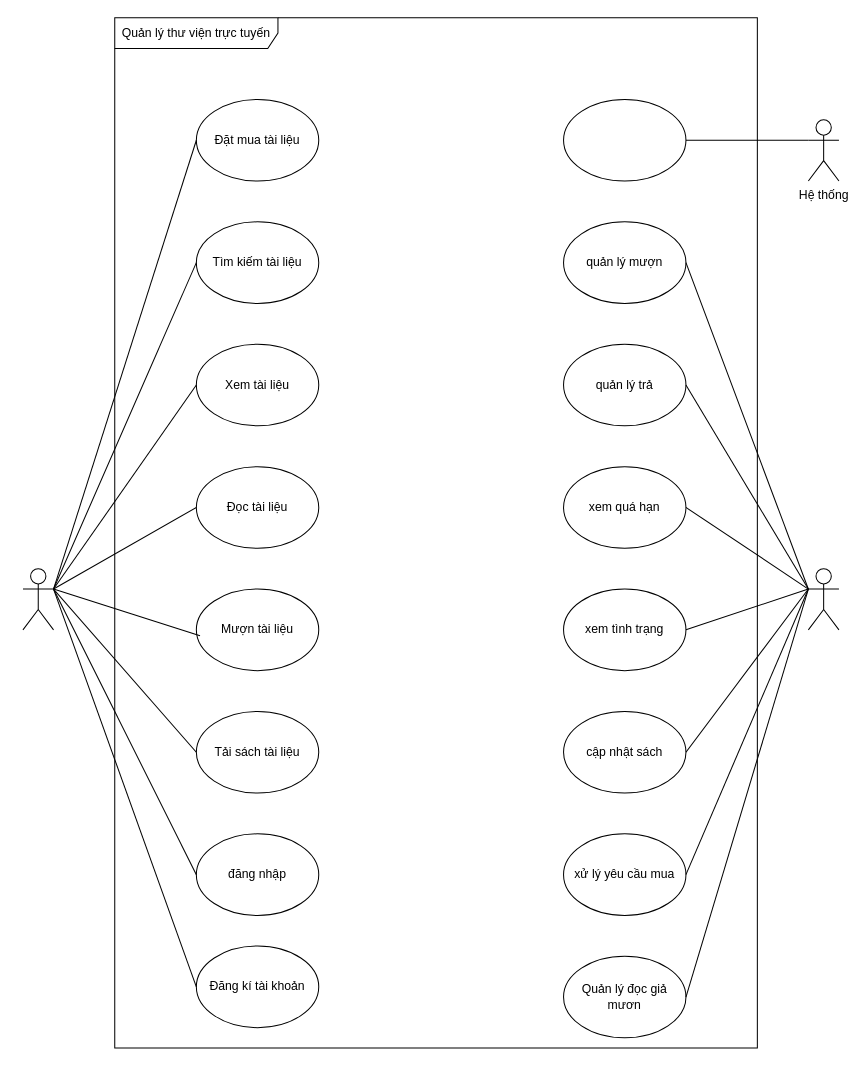
The diagram is 866 pixels wide and 1066 high, and some of its shapes have lost their labels. The shapes that lost their labels are listed below. From the top down, each one's box as (x1, y1, x2, y2) in pixels, then its label:
(563, 98, 686, 181): Gửi mail nhắc hạn
(22, 568, 54, 630): Đọc giả
(807, 568, 839, 630): Thủ thư
